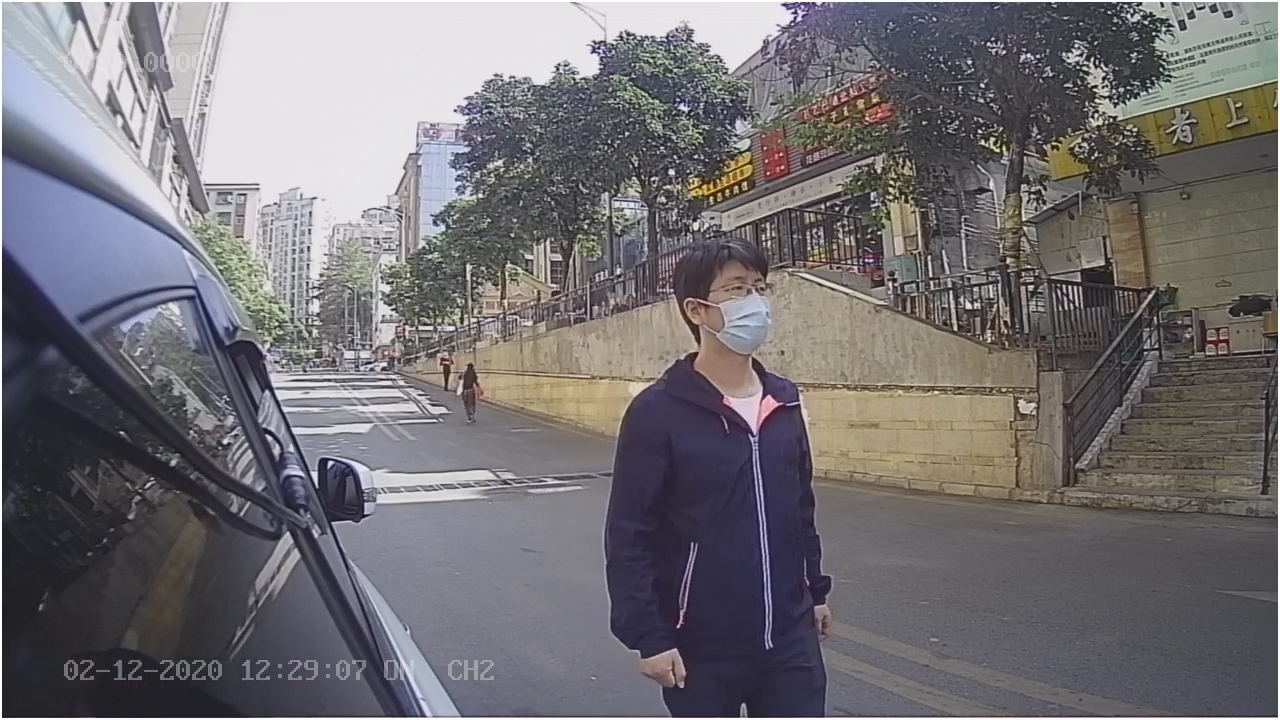person: (593, 233, 857, 688)
